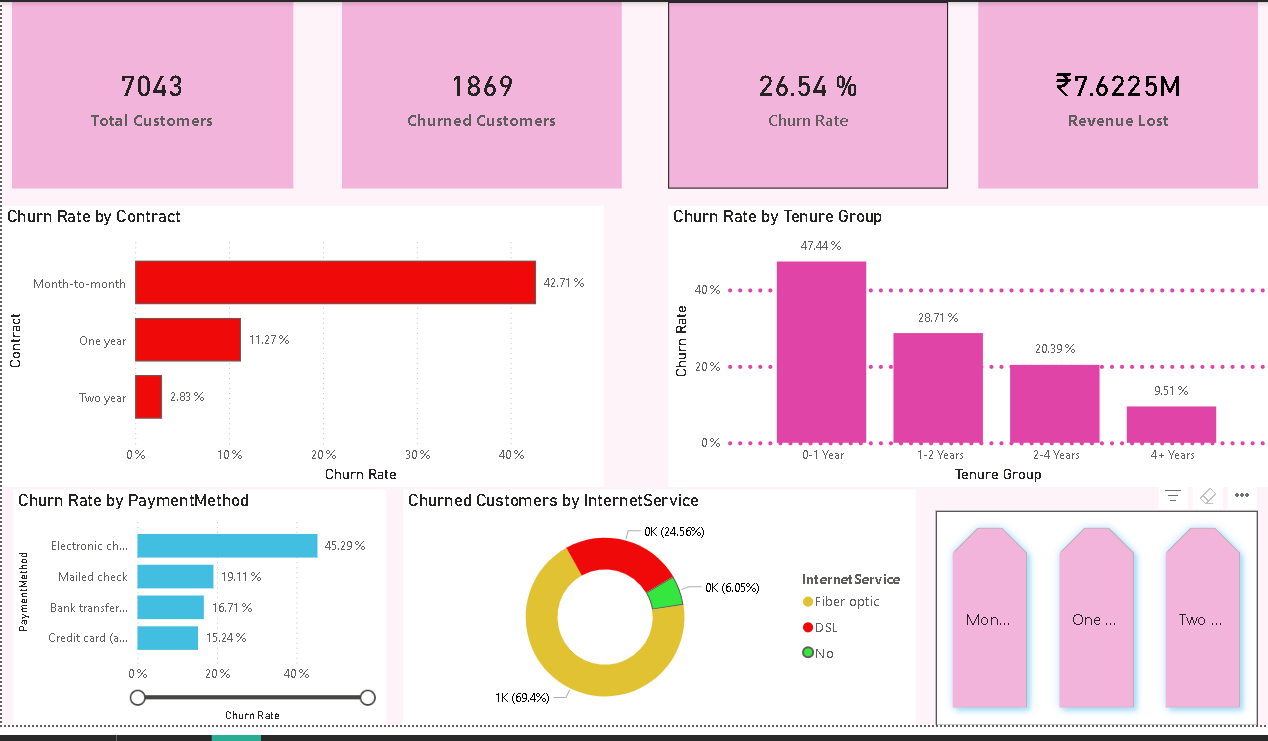

What the dashboard file says about the page in this screenshot:
{"tool":"powerbi","page":{"name":"Page 1","canvas":[1280,720],"ordinal":0},"visuals":[{"type":"card","fields":{"Values":["telco_churn_cleaned.Total Customers"]},"box":[10,0,279.9,185.3],"z":0},{"type":"card","fields":{"Values":["telco_churn_cleaned.Churned Customers"]},"box":[338.4,0,278.6,185.3],"z":1000},{"type":"card","fields":{"Values":["telco_churn_cleaned.Churn Rate"]},"box":[663,0,278.6,185.3],"z":1001},{"type":"card","fields":{"Values":["telco_churn_cleaned.Revenue Lost K"]},"box":[971.5,0,278.6,185.3],"z":1002},{"type":"clusteredBarChart","fields":{"Category":["telco_churn_cleaned.Contract"],"Y":["telco_churn_cleaned.Churn Rate"]},"box":[0,202.8,599.6,279.9],"z":1003},{"type":"lineClusteredColumnComboChart","fields":{"Category":["telco_churn_cleaned.Tenure Group"],"Y":["telco_churn_cleaned.Churn Rate"]},"box":[663,202.8,600.8,279.9],"z":1004},{"type":"barChart","fields":{"Category":["telco_churn_cleaned.PaymentMethod"],"Y":["telco_churn_cleaned.Churn Rate"]},"box":[11.2,485.1,370.7,235.1],"z":1005},{"type":"donutChart","fields":{"Category":["telco_churn_cleaned.InternetService"],"Y":["telco_churn_cleaned.Churned Customers"]},"box":[399.3,485.1,510,235.1],"z":1006},{"type":"advancedSlicerVisual","fields":{"Values":["telco_churn_cleaned.Contract"]},"box":[929.2,506.3,320.9,214],"z":1007}]}

Visuals, with their boxes in screenshot pixels (x1, y1, x2, y2):
card - telco_churn_cleaned.Total Customers: Rect(4, 0, 287, 188)
card - telco_churn_cleaned.Churned Customers: Rect(336, 0, 618, 188)
card - telco_churn_cleaned.Churn Rate: Rect(665, 0, 947, 188)
card - telco_churn_cleaned.Revenue Lost K: Rect(977, 0, 1260, 188)
clusteredBarChart - telco_churn_cleaned.Contract x telco_churn_cleaned.Churn Rate: Rect(0, 205, 601, 489)
lineClusteredColumnComboChart - telco_churn_cleaned.Tenure Group x telco_churn_cleaned.Churn Rate: Rect(665, 205, 1267, 489)
barChart - telco_churn_cleaned.PaymentMethod x telco_churn_cleaned.Churn Rate: Rect(5, 491, 380, 729)
donutChart - telco_churn_cleaned.InternetService x telco_churn_cleaned.Churned Customers: Rect(398, 491, 914, 729)
advancedSlicerVisual - telco_churn_cleaned.Contract: Rect(935, 513, 1260, 730)
